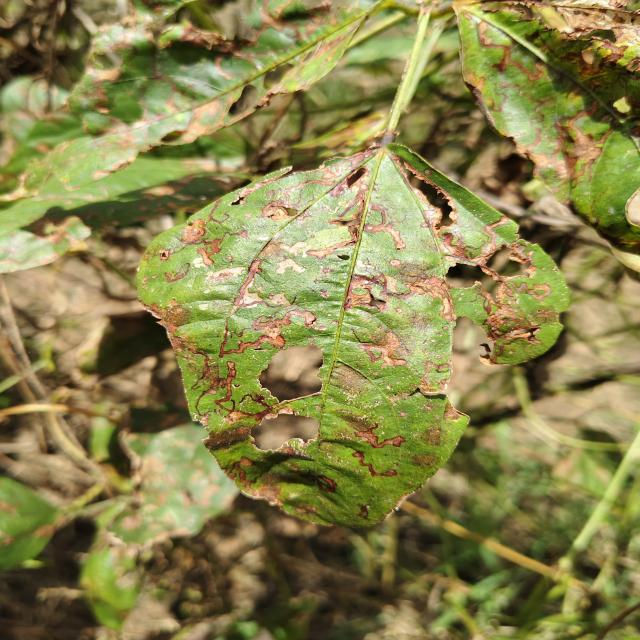leaf-moderate: (137, 144, 569, 527), (0, 0, 380, 239), (452, 0, 640, 272)
